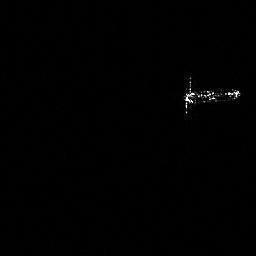ship: (176, 86, 256, 112)
